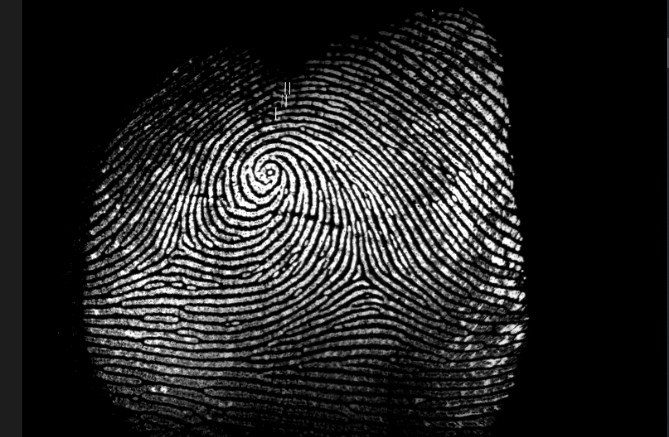deltas: (331, 240, 386, 297), (154, 219, 209, 275)
nucleo: (236, 142, 293, 200)
